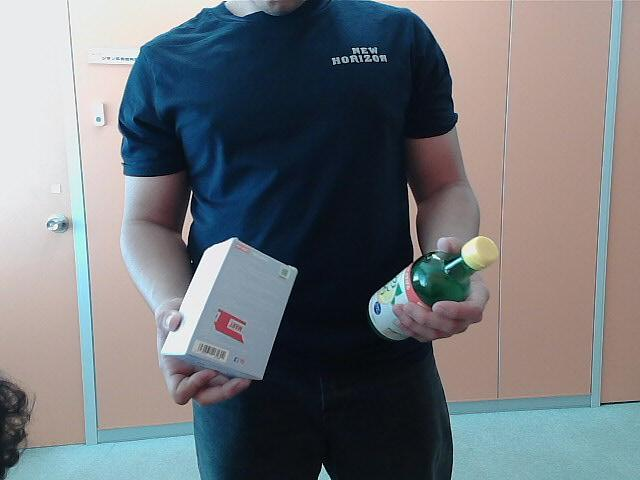Blind_box: (169, 236, 292, 381)
Lemon_sapporo: (369, 236, 498, 348)
